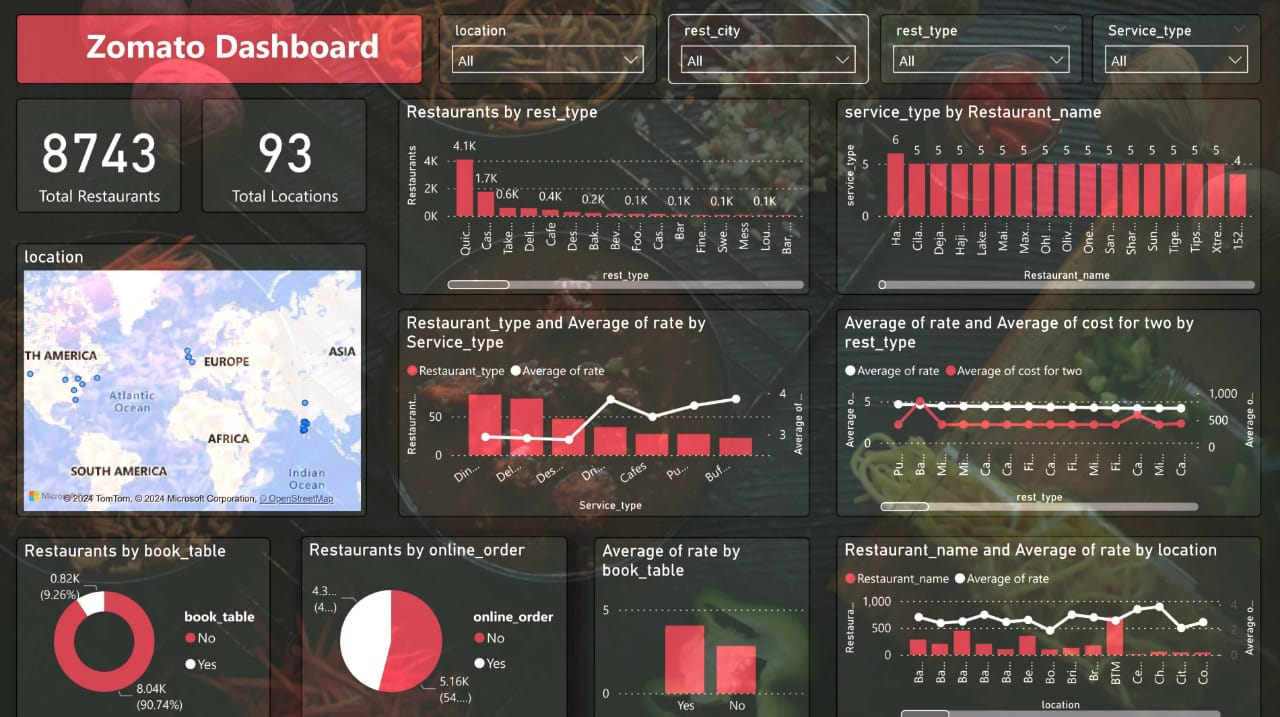

What the dashboard file says about the page in this screenshot:
{"tool":"powerbi","page":{"name":"Page 1","canvas":[1280,720],"ordinal":0},"visuals":[{"type":"textbox","box":[26.2,19.3,400.5,68.8],"z":0},{"type":"map","fields":{"Category":["zomato.location"]},"box":[26.2,245,345.5,269.8],"z":1000},{"type":"slicer","fields":{"Values":["zomato.location"]},"box":[443.2,19.3,214.7,68.8],"z":2000},{"type":"slicer","fields":{"Values":["zomato.rest_city"]},"box":[668.9,19.3,198.2,68.8],"z":3000},{"type":"slicer","fields":{"Values":["zomato.rest_type"]},"box":[878.1,19.3,199.6,68.8],"z":4000},{"type":"slicer","fields":{"Values":["zomato.listed_in(type)"]},"box":[1087.3,19.3,166.5,68.8],"z":5000},{"type":"card","fields":{"Values":["Count(zomato.name)"]},"box":[26.2,101.8,162.4,112.9],"z":6000},{"type":"card","fields":{"Values":["Count(zomato.location)"]},"box":[209.2,101.8,162.4,112.9],"z":7000},{"type":"lineClusteredColumnComboChart","fields":{"Category":["zomato.location"],"Y":["Count(zomato.name)"],"Y2":["Avg(zomato.rate)"]},"box":[835.4,534,418.4,185.8],"z":8000},{"type":"clusteredColumnChart","fields":{"Category":["zomato.rest_type"],"Y":["Count(zomato.name)"]},"box":[403.3,101.8,406,194.1],"z":9000},{"type":"pieChart","fields":{"Category":["zomato.online_order"],"Y":["Count(zomato.name)"]},"box":[306.9,534,262.9,185.8],"z":10000},{"type":"lineClusteredColumnComboChart","fields":{"Category":["zomato.listed_in(type)"],"Y":["Count(zomato.rest_type)"],"Y2":["Avg(zomato.rate)"]},"box":[403.3,309.7,406,205.1],"z":11000},{"type":"donutChart","fields":{"Category":["zomato.book_table"],"Y":["Count(zomato.name)"]},"box":[26.2,535.4,250.5,184.4],"z":12000},{"type":"clusteredColumnChart","fields":{"Category":["zomato.book_table"],"Y":["Avg(zomato.rate)"]},"box":[596,535.4,213.3,184.4],"z":13000},{"type":"lineChart","fields":{"Category":["zomato.rest_type"],"Y":["Avg(zomato.rate)"],"Y2":["Avg(zomato.approx_cost(for two people))"]},"box":[835.4,309.7,418.4,205.1],"z":14000},{"type":"clusteredColumnChart","fields":{"Y":["Count(zomato.listed_in(type))"],"Category":["zomato.name"]},"box":[835.4,101.8,418.4,194.1],"z":15000}]}

Visuals, with their boxes in screenshot pixels (x1, y1, x2, y2), scaled from the page's 1280x720 canvas onto the 1280x717 screenshot:
textbox: 26/19/427/88
map - zomato.location: 26/244/372/513
slicer - zomato.location: 443/19/658/88
slicer - zomato.rest_city: 669/19/867/88
slicer - zomato.rest_type: 878/19/1078/88
slicer - zomato.listed_in(type): 1087/19/1254/88
card - Count(zomato.name): 26/101/189/214
card - Count(zomato.location): 209/101/372/214
lineClusteredColumnComboChart - zomato.location x Count(zomato.name): 835/532/1254/716
clusteredColumnChart - zomato.rest_type x Count(zomato.name): 403/101/809/295
pieChart - zomato.online_order x Count(zomato.name): 307/532/570/716
lineClusteredColumnComboChart - zomato.listed_in(type) x Count(zomato.rest_type): 403/308/809/513
donutChart - zomato.book_table x Count(zomato.name): 26/533/277/716
clusteredColumnChart - zomato.book_table x Avg(zomato.rate): 596/533/809/716
lineChart - zomato.rest_type x Avg(zomato.rate): 835/308/1254/513
clusteredColumnChart - Count(zomato.listed_in(type)) x zomato.name: 835/101/1254/295
